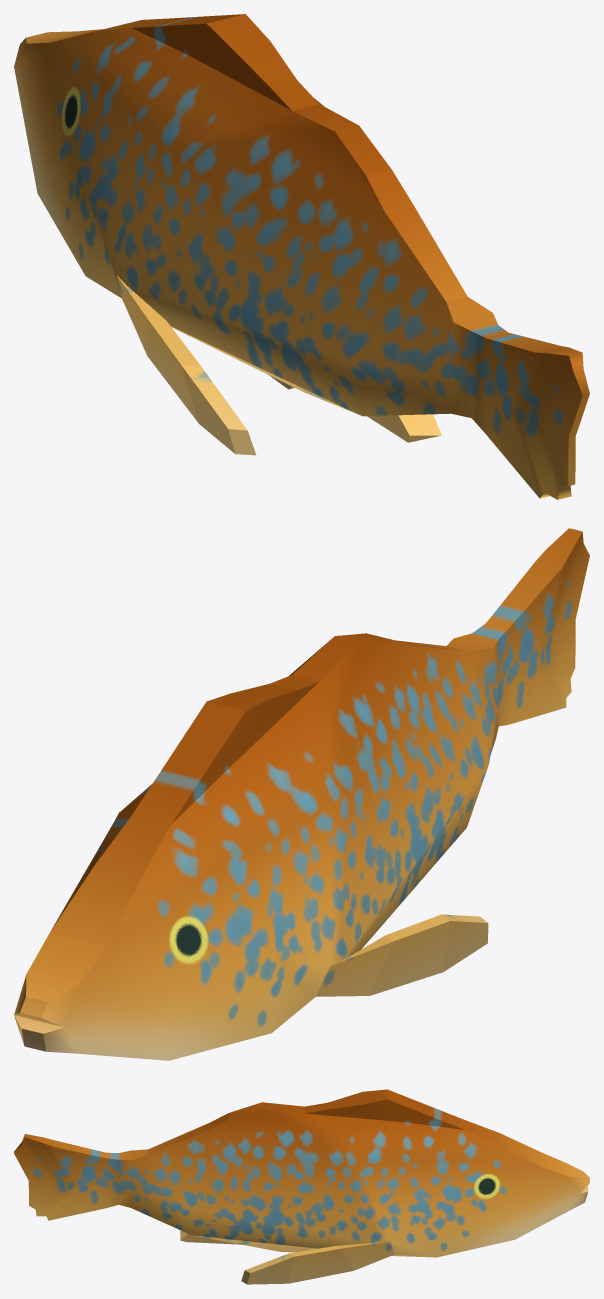
The model's file is kelpGreenLing.fbx.
3 renders of one model, top to bottom at view 1: azimuth 30°, elevation 25°; view 2: azimuth 150°, elevation 25°; view 3: azimuth 270°, elevation 25°, orthographic. The views are drawn at different scales.
Visible parts, largest first — view 1: KelpGreenling; view 2: KelpGreenling; view 3: KelpGreenling.
Part boxes in pixels (x1,y1,x2,y2): KelpGreenling: (14, 14, 589, 499); KelpGreenling: (14, 528, 589, 1060); KelpGreenling: (14, 1089, 589, 1284).
Size of the model in its own units: 0.4487 by 0.5006 by 1.6.
